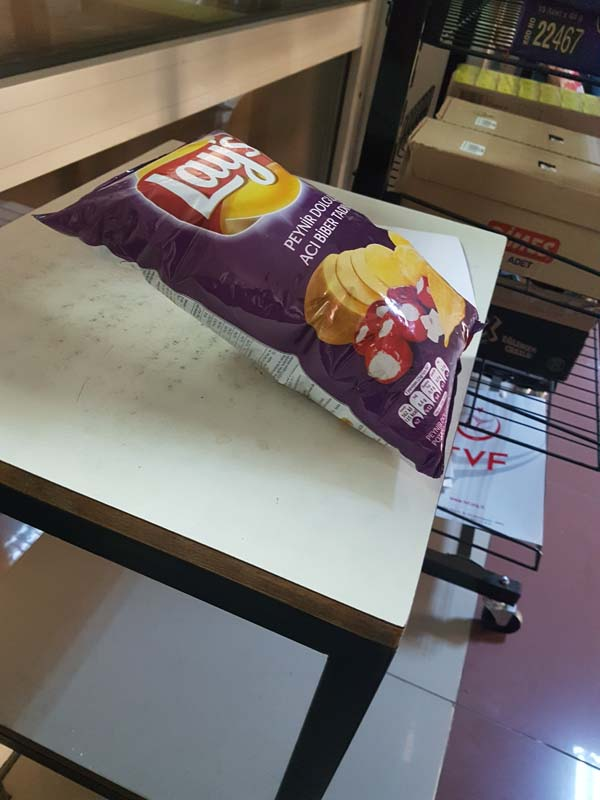layspeynirsoslu: (38, 123, 485, 480)
